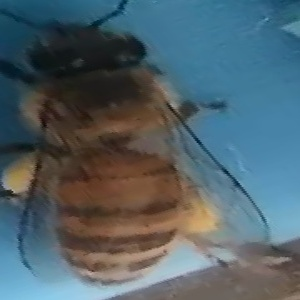bee: (3, 6, 278, 288)
